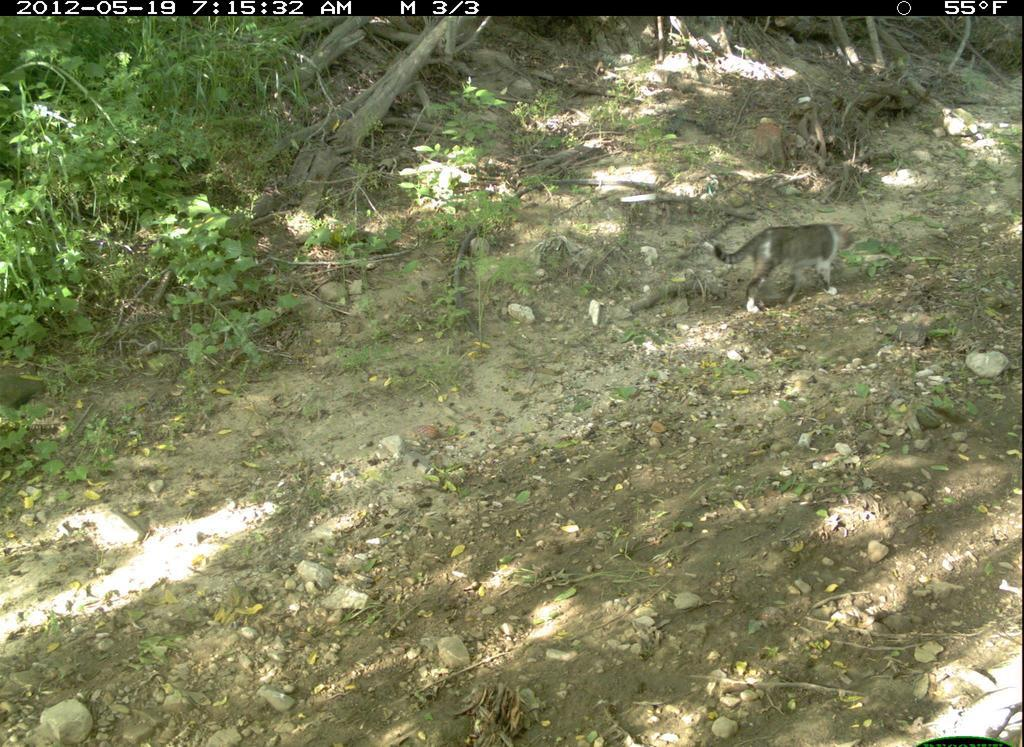cat: (698, 216, 872, 326)
